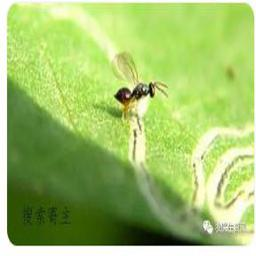liriomyza: (126, 114, 256, 245), (111, 52, 168, 122)
